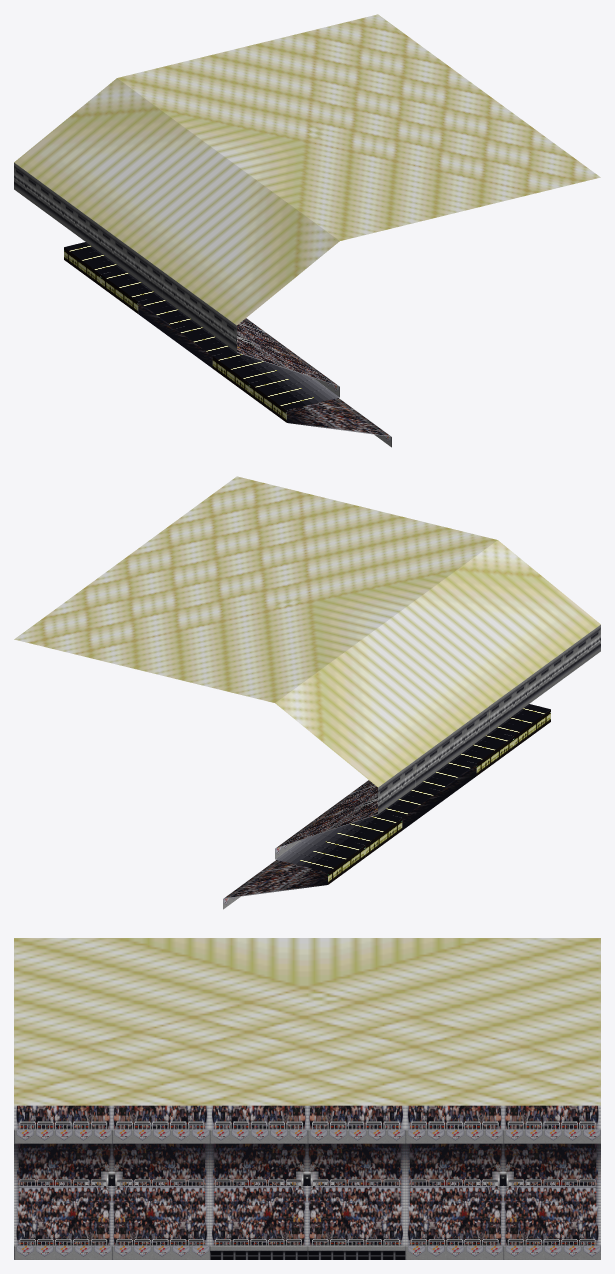
The picture shows the model from 3 angles, top to bottom: view 1: azimuth 30°, elevation 25°; view 2: azimuth 150°, elevation 25°; view 3: azimuth 270°, elevation 25°; orthographic projection. The views are drawn at different scales.
Size of the model in its own units: 80.2 by 46.12 by 85.05.
6 materials, 6 textured.
